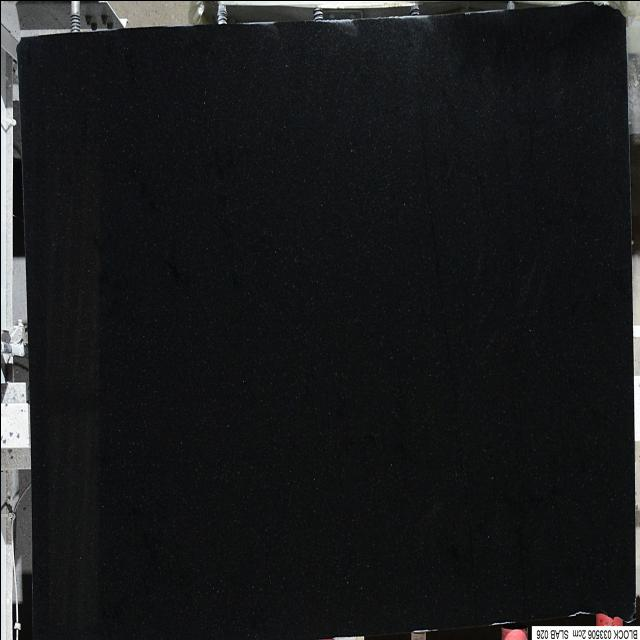chapa: (16, 4, 634, 638)
